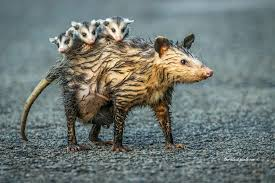opossum: (19, 17, 212, 153)
